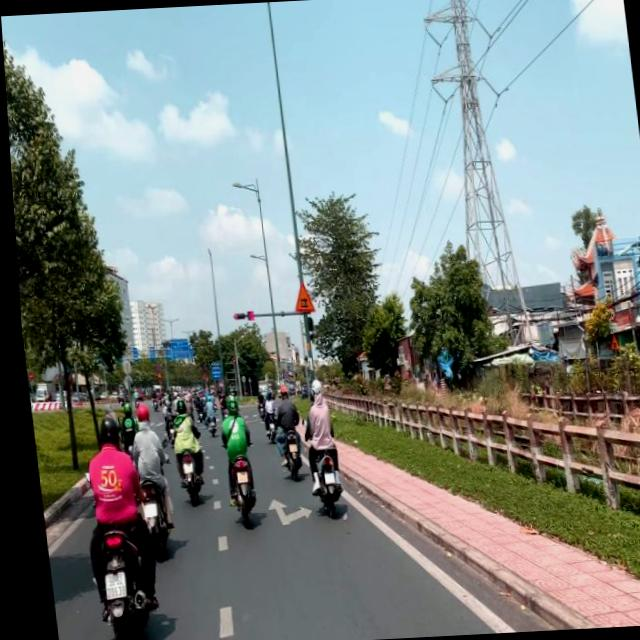Cam di nguoc chieu: (23, 372, 28, 381)
Cam dung xe va do xe: (151, 364, 156, 372)
Giao nhau voi duong sat co rao chan: (287, 280, 312, 314)
Toc do toi da cho phep: (122, 346, 127, 356), (162, 346, 165, 352), (185, 344, 188, 350), (146, 347, 149, 352)
